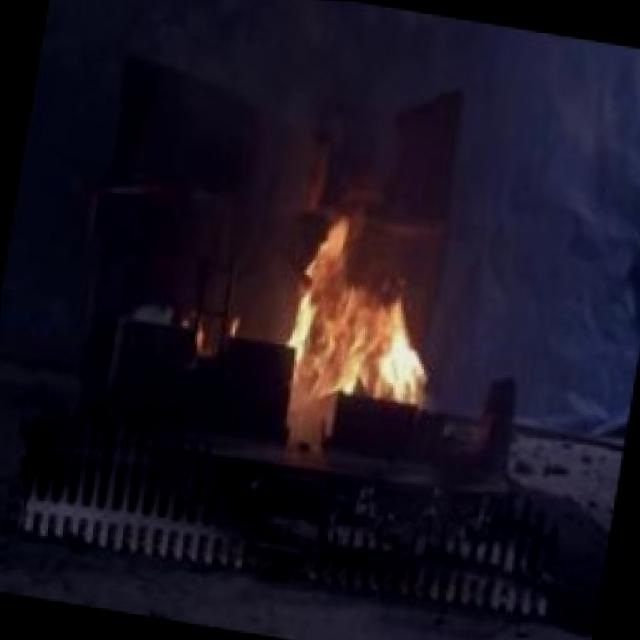fire: (238, 172, 475, 438)
